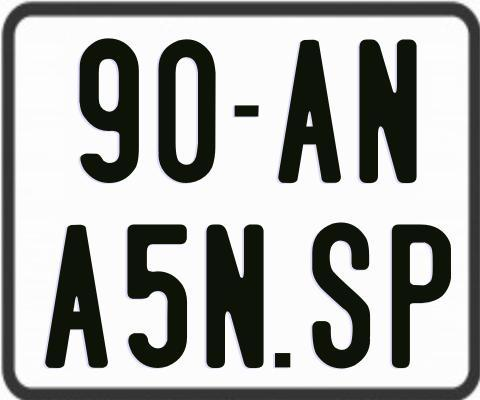0: (155, 38, 214, 188)
5: (127, 225, 190, 373)
9: (79, 35, 145, 182)
A: (277, 38, 346, 186), (43, 225, 110, 373)
N: (204, 222, 267, 365), (356, 38, 414, 183)
P: (391, 225, 450, 370)
S: (309, 222, 373, 367)
